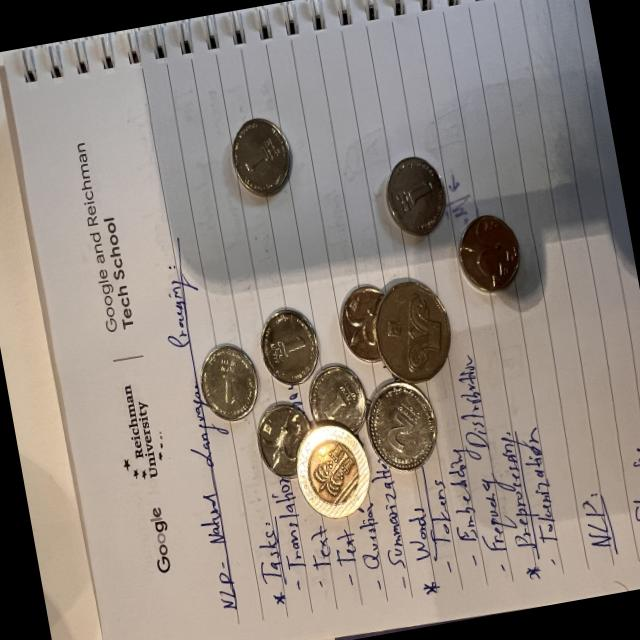1-shekel: (220, 106, 302, 197), (379, 153, 451, 242), (252, 302, 324, 390), (452, 213, 524, 298), (241, 400, 317, 480), (332, 274, 394, 368), (196, 339, 264, 424), (302, 365, 372, 441)
10-shekel: (289, 423, 376, 526)
2-shekel: (366, 272, 459, 388), (358, 375, 442, 477)
